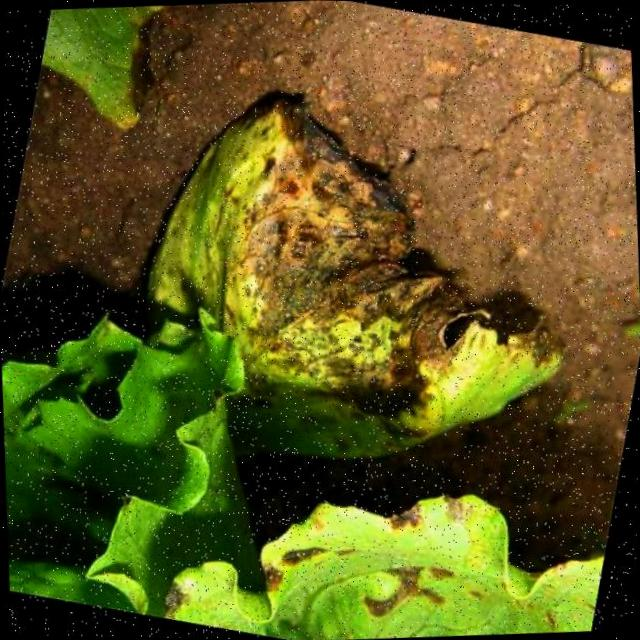Septoria_Blight_on_lettuce: (195, 165, 450, 444), (236, 454, 589, 640)
